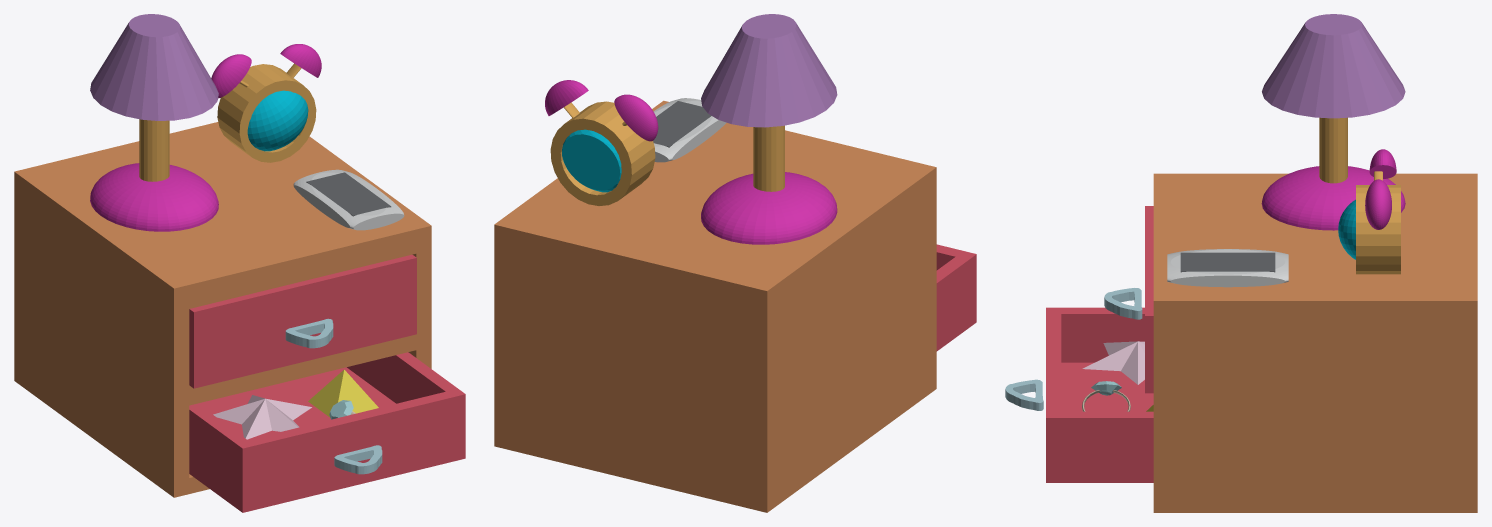
File: Side_Table.glb
3 renders of one model, left to right at view 1: azimuth 30°, elevation 25°; view 2: azimuth 150°, elevation 25°; view 3: azimuth 270°, elevation 25°, orthographic. The views are drawn at different scales.
Parts seen in each view (by area): view 1: Mesh_Mesh_head_geo.001_lambert2SG.001; view 2: Mesh_Mesh_head_geo.001_lambert2SG.001; view 3: Mesh_Mesh_head_geo.001_lambert2SG.001.
Boxes of the visible parts, x1,y1,x2,y2 form: Mesh_Mesh_head_geo.001_lambert2SG.001: [14, 14, 465, 512]; Mesh_Mesh_head_geo.001_lambert2SG.001: [494, 14, 976, 512]; Mesh_Mesh_head_geo.001_lambert2SG.001: [1005, 14, 1477, 512].
Size of the model in its own units: 67 by 97 by 105.
